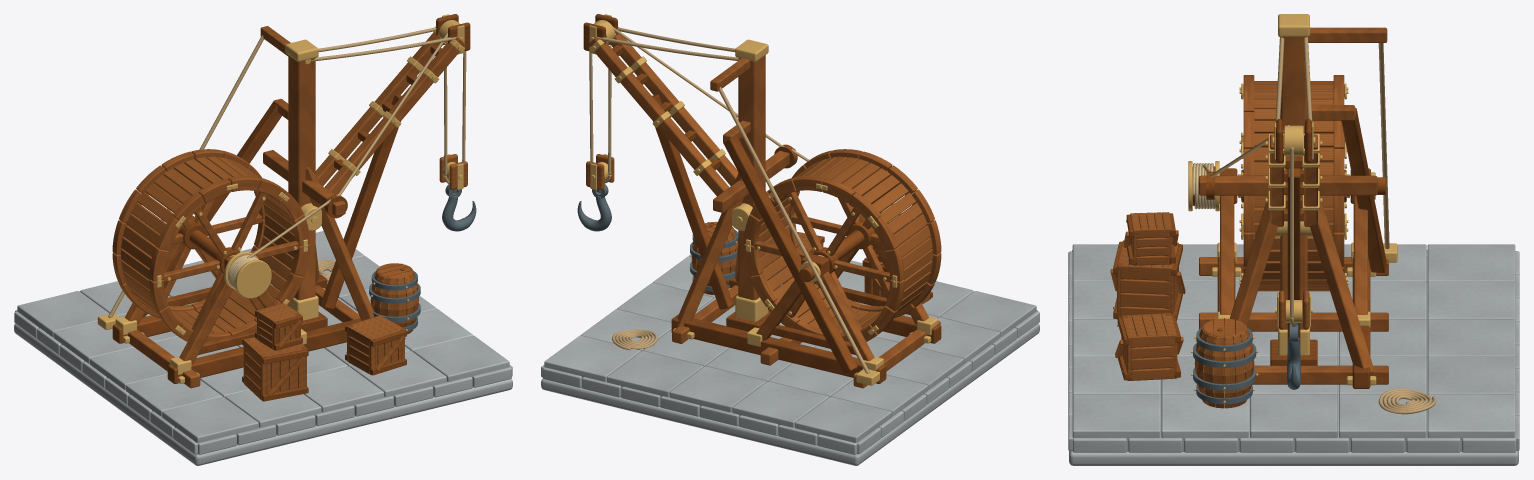
Rendered from Harbor_Crane.glb.
3 views of the same model, side by side, from view 1: azimuth 30°, elevation 25°; view 2: azimuth 150°, elevation 25°; view 3: azimuth 270°, elevation 25° (orthographic). The views are drawn at different scales.
Parts seen in each view (by area): view 1: Harbor_Treadwheel_Crane; view 2: Harbor_Treadwheel_Crane; view 3: Harbor_Treadwheel_Crane.
Part boxes in pixels (x1,y1,x2,y2): Harbor_Treadwheel_Crane: [14, 14, 512, 465]; Harbor_Treadwheel_Crane: [541, 14, 1039, 465]; Harbor_Treadwheel_Crane: [1068, 14, 1519, 465].
Size of the model in its own units: 8.19 by 6.45 by 7.02.
9 materials, 4 textured.
